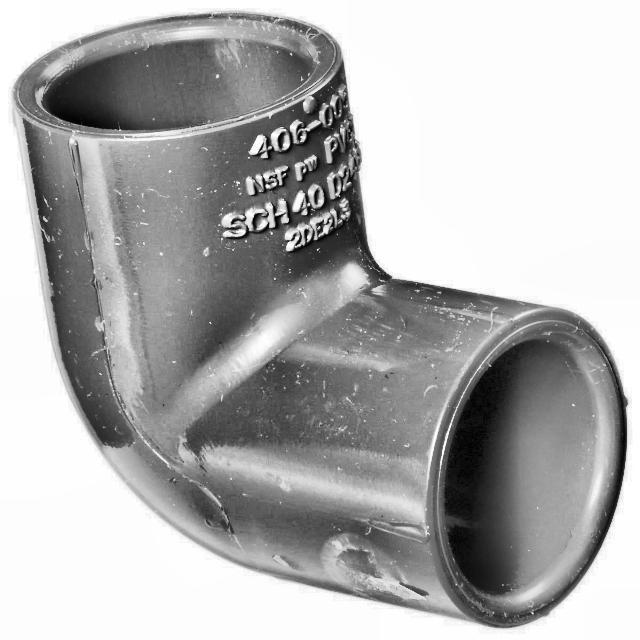ELBOW90: (13, 12, 629, 631)
